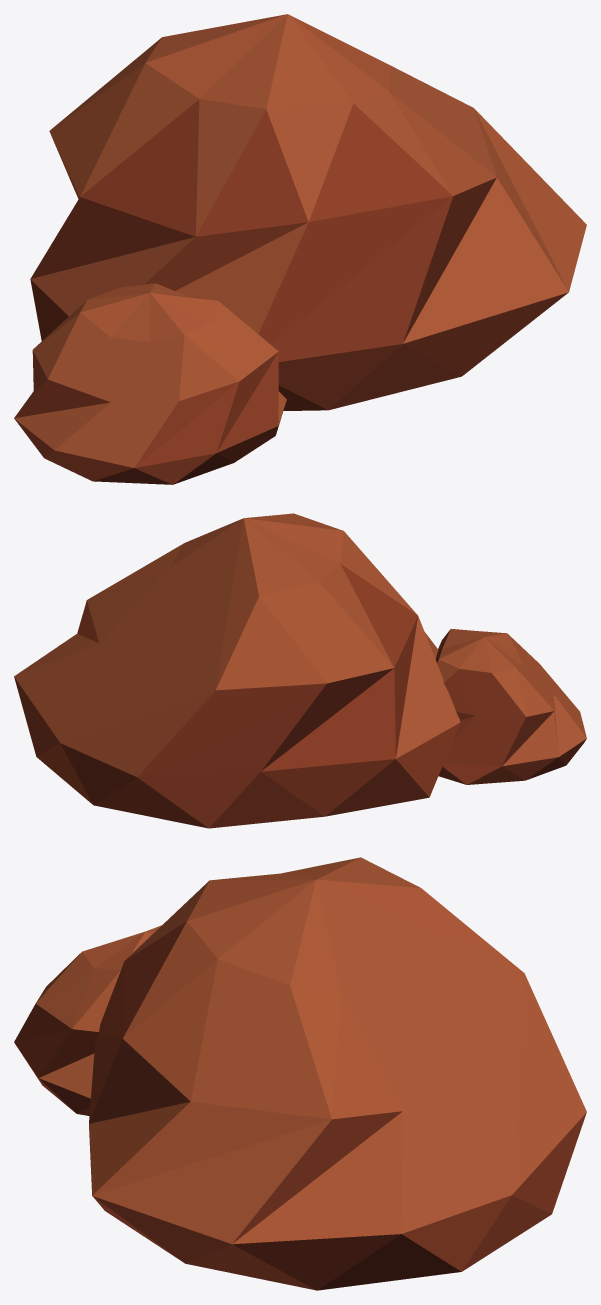
The model's file is red_boulder.glb.
3 views of the same model, one above another, from view 1: azimuth 30°, elevation 25°; view 2: azimuth 150°, elevation 25°; view 3: azimuth 270°, elevation 25° (orthographic). The views are drawn at different scales.
Visible parts, largest first — view 1: red_boulder2; view 2: red_boulder2; view 3: red_boulder2.
Part boxes in pixels (x1=…): red_boulder2: x1=14, y1=14, x2=586, y2=484; red_boulder2: x1=14, y1=513, x2=586, y2=828; red_boulder2: x1=14, y1=857, x2=586, y2=1290.
Size of the model in its own units: 1.12 by 0.5386 by 0.9368.
